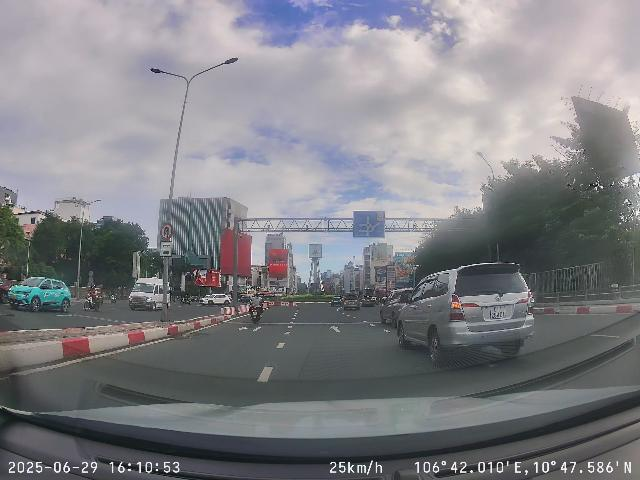124a-cam-quay-dau-xe: (160, 223, 174, 240)
